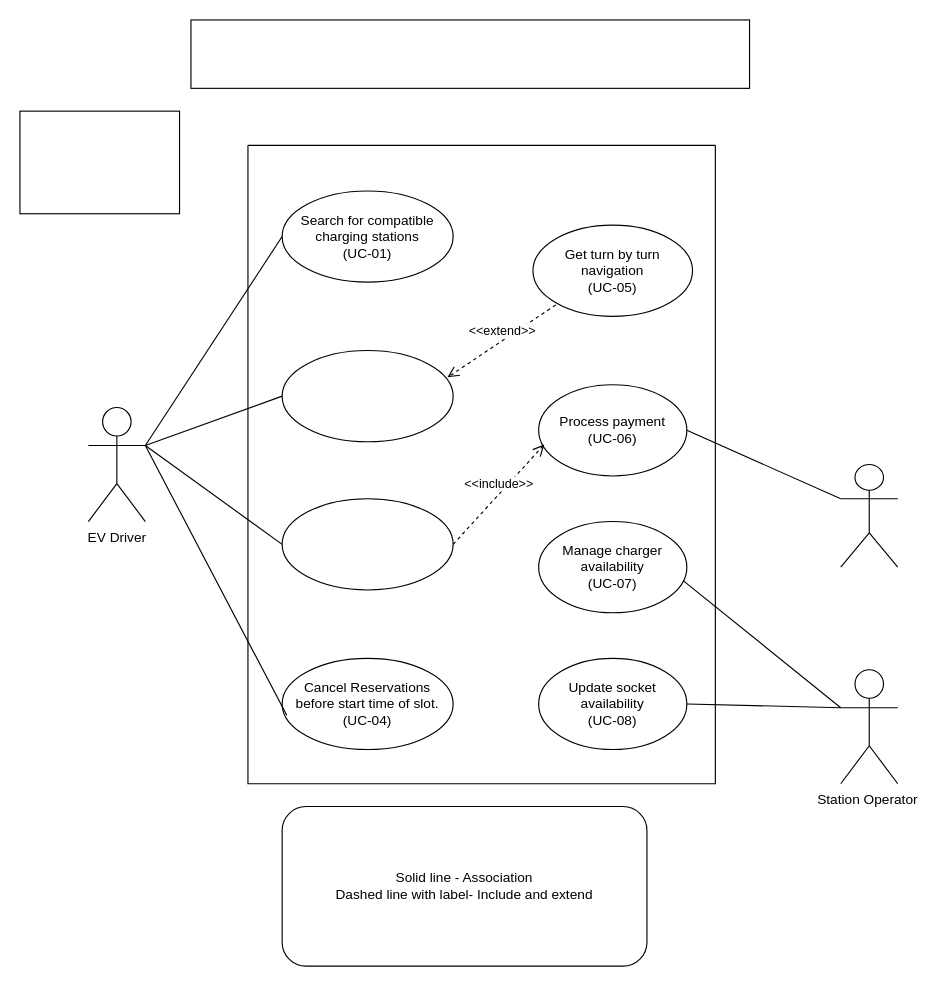
Image size: 943x986. Some labels were removed from this diagram. Each missing label, with the centre of its shape:
"EV CHARGING RESERVATION SYSTEM UML USE CASE DIAGRAM" goes at (x=470, y=53).
"NAME : V.SAATWIK SRN:PES1UG24CS509 SECTION: I" goes at (x=99, y=162).
"Payment gateway" goes at (x=869, y=515).
"Reserve charging slots. (UC-03)" goes at (x=367, y=544).
"View real time station map. (UC-02)" goes at (x=367, y=395).
